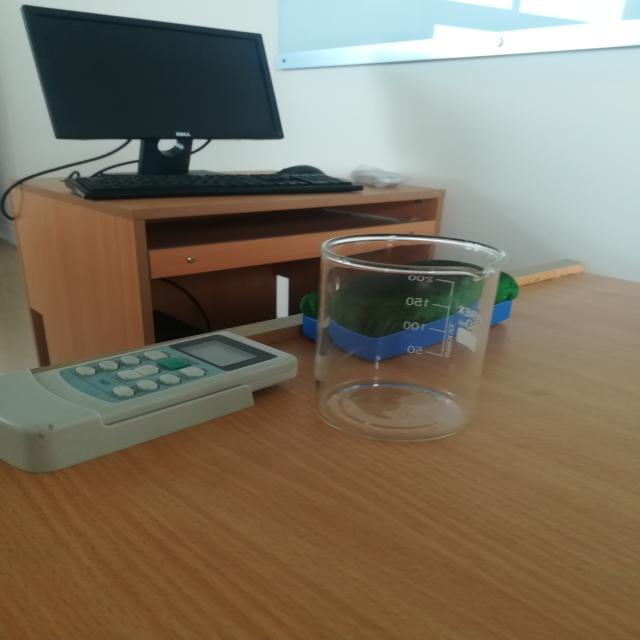Beaker: (299, 202, 523, 475)
